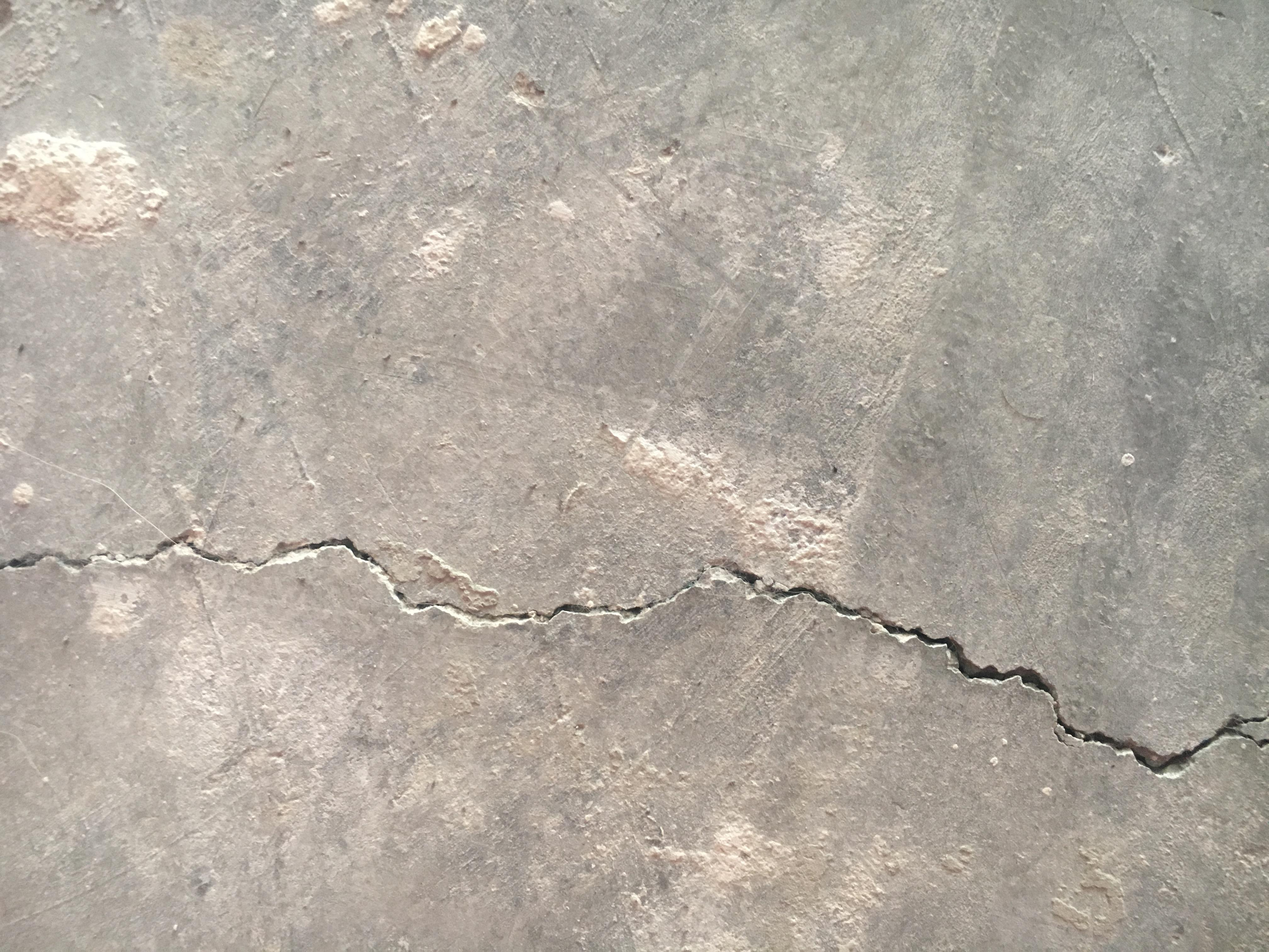Horizontal Settlement Crack: (3, 525, 1265, 780)
